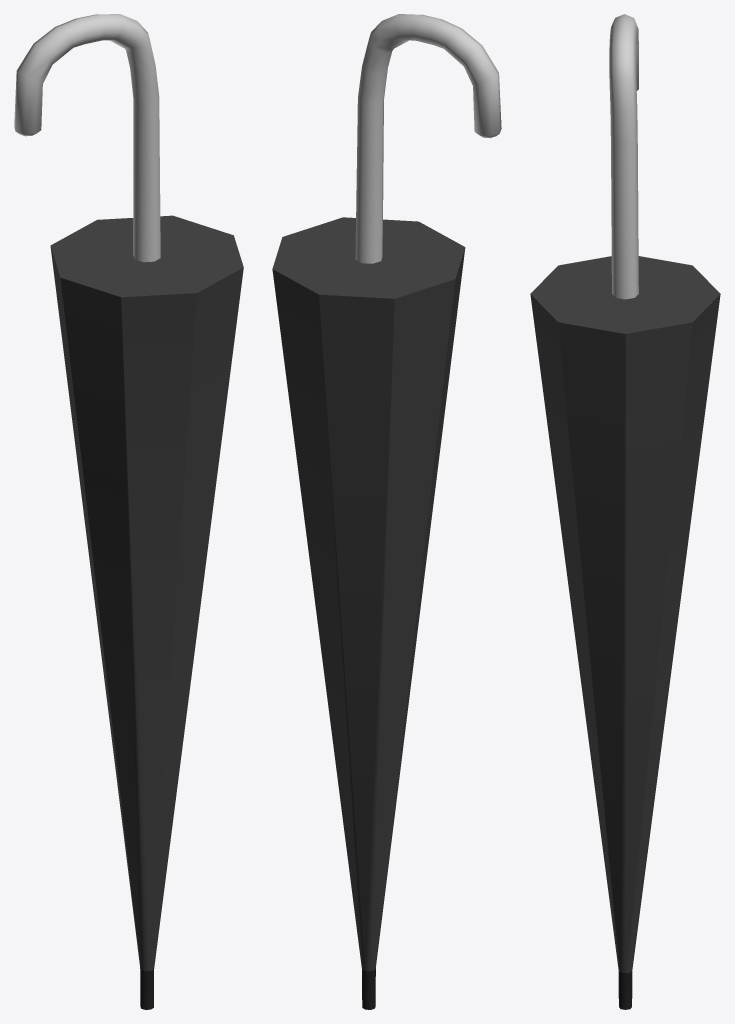
File: Umbrella.fbx
The picture shows the model from 3 angles, left to right: view 1: azimuth 30°, elevation 25°; view 2: azimuth 150°, elevation 25°; view 3: azimuth 270°, elevation 25°; orthographic projection. The views are drawn at different scales.
Visible parts, largest first — view 1: Umbrella; view 2: Umbrella; view 3: Umbrella.
Part boxes in pixels (x1,y1,x2,y2): Umbrella: (14,14,243,1009); Umbrella: (272,14,501,1009); Umbrella: (530,14,720,1009).
Size of the model in its own units: 0.3043 by 1.34 by 0.2417.
